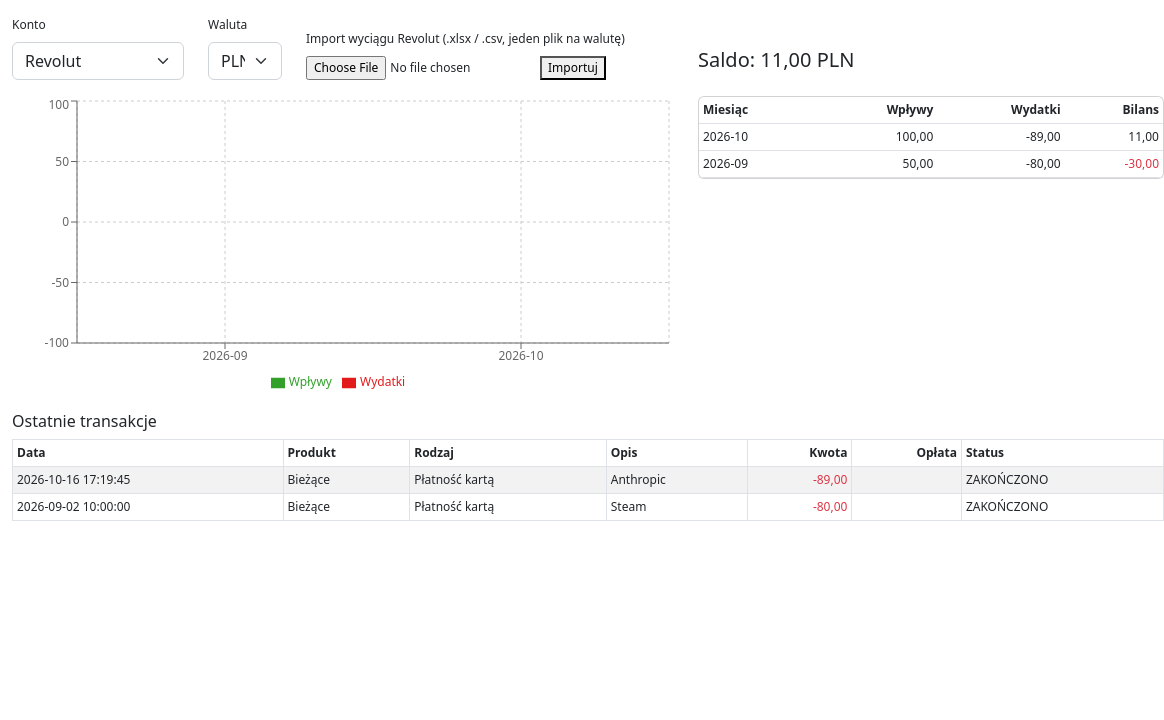
AccountCashflowView › switches to another currency with its own cashflow and balance
Expected: the text "Steam" is shown, [606,494,748,521]
Select "JPY" in the dropdown named "Waluta": {"x": 245, "y": 61} [208,42,282,80]
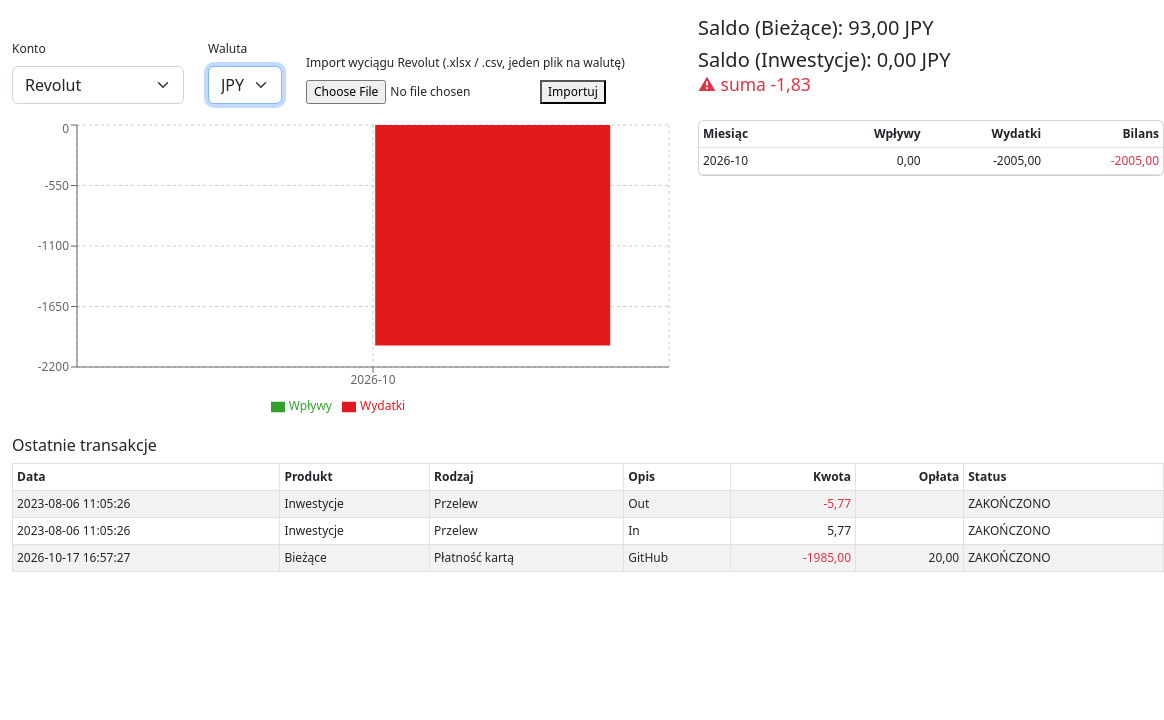
Result: the text "GitHub" is shown at [624,545,730,572]
Result: the text "Steam" is gone
Result: the heading "Saldo (Bieżące): 93,00 JPY" is shown at [698,16,968,40]
